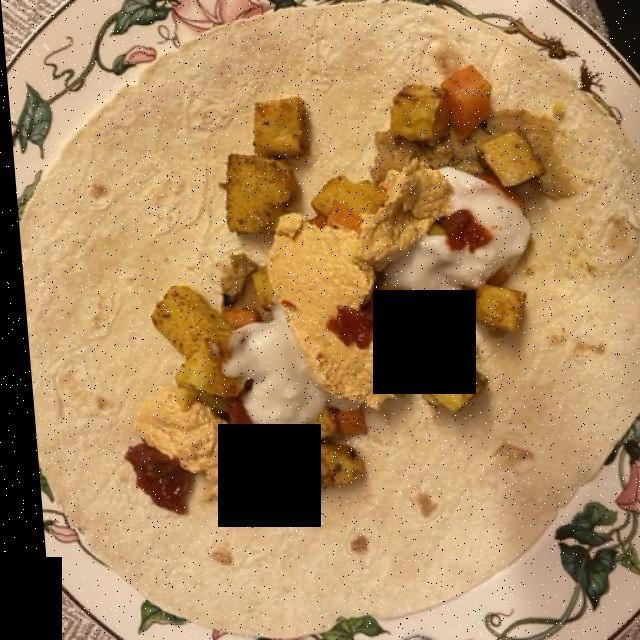bread: (40, 9, 640, 638)
carrot: (224, 61, 497, 329)
